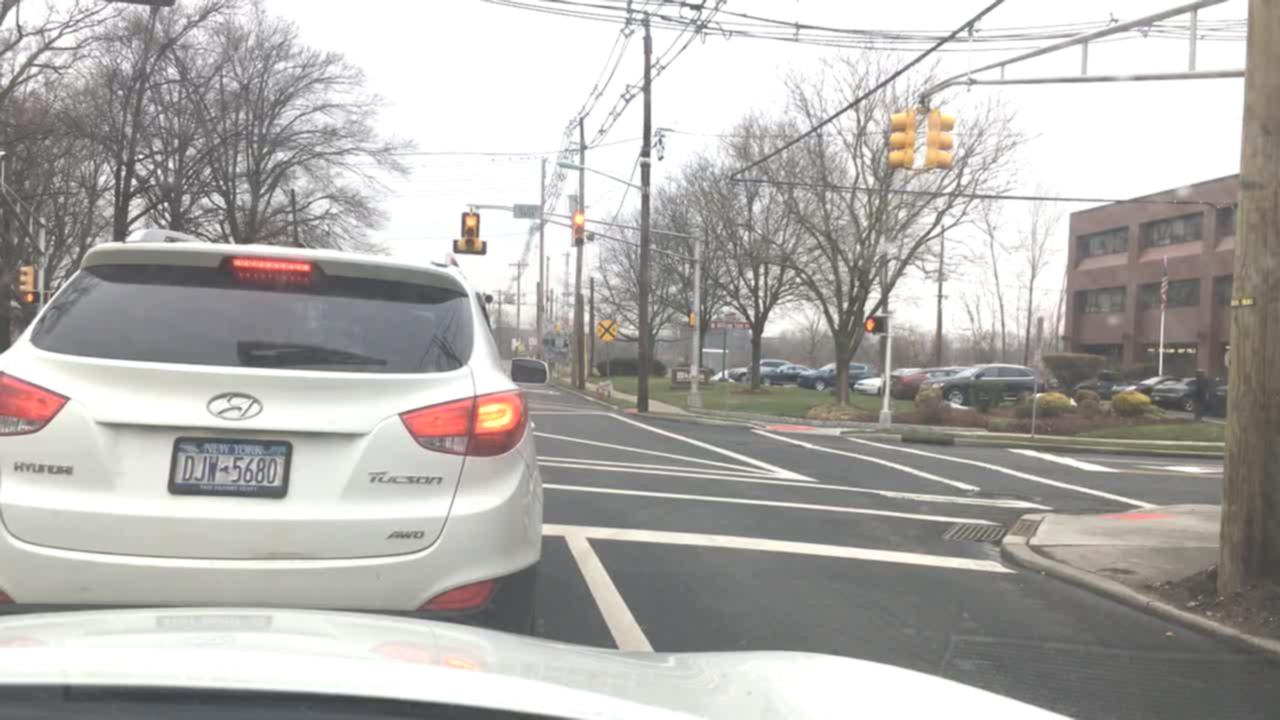Hyundai: (181, 378, 278, 444)
